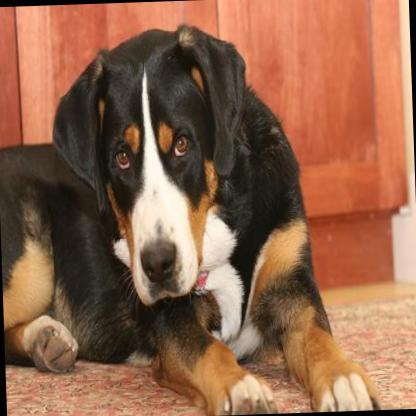Greater_Swiss_Mountain_dog: (0, 10, 382, 416)
